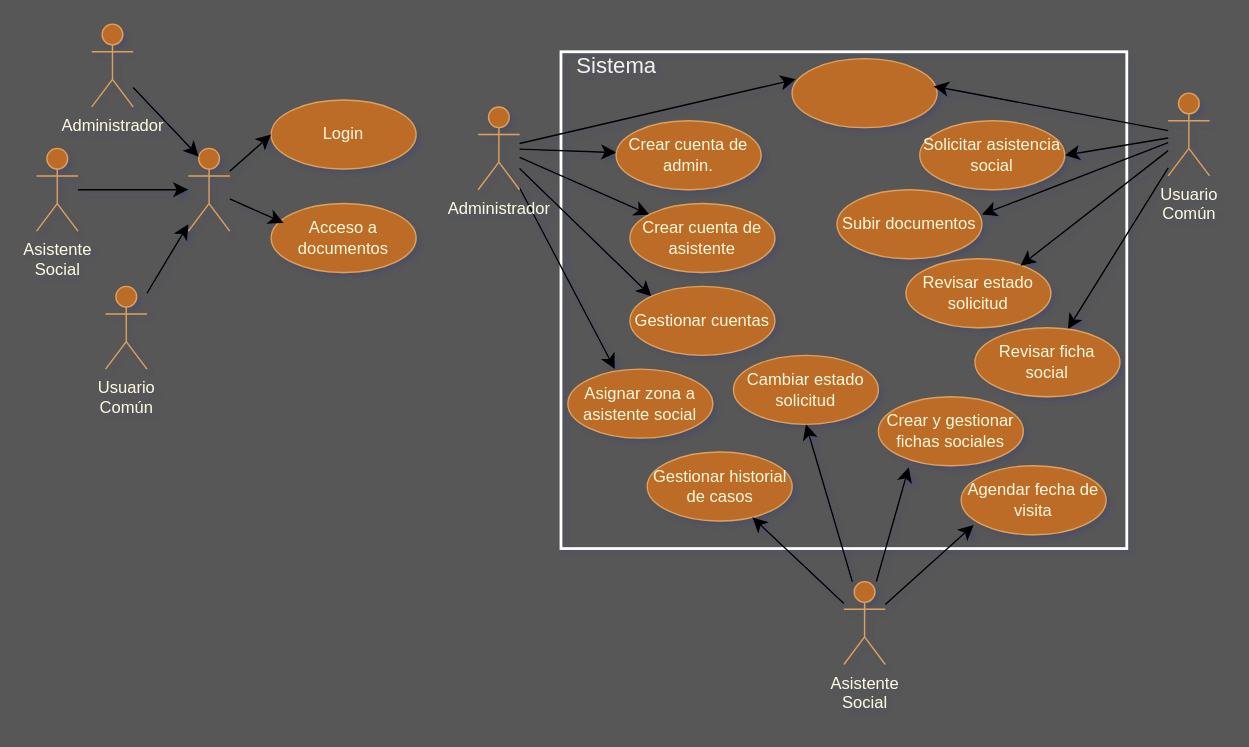
Image size: 1249x747. Some labels were removed from this diagram. The shapes that lost their labels are listed below. From the top down, each one's centre as x and y in pixels, then its label:
(x=864, y=92): Crear cuenta de usuario
(x=208, y=189): Usuario
